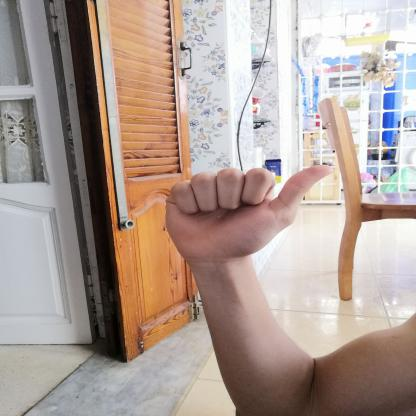DAD: (154, 159, 342, 269)
